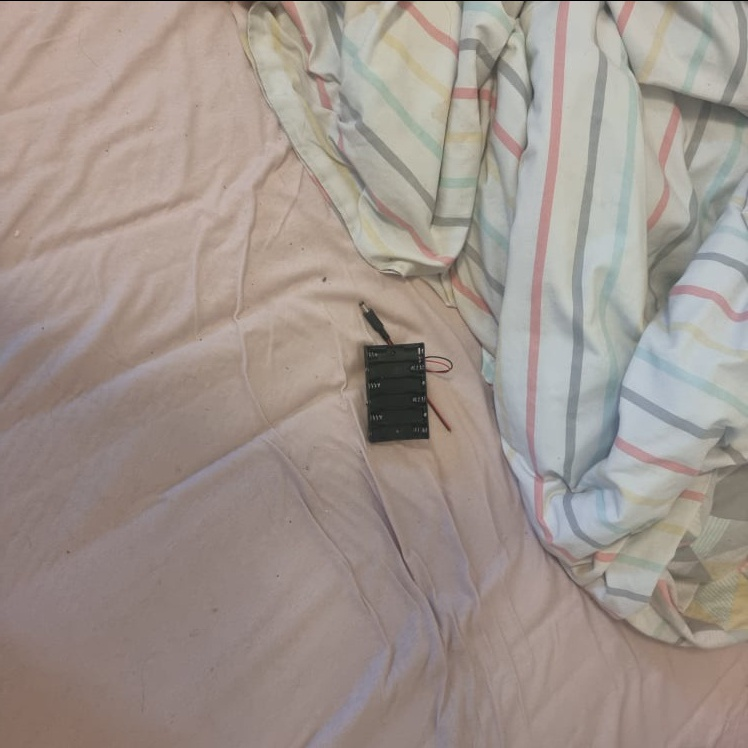BATTERY BOX: (361, 340, 430, 445)
